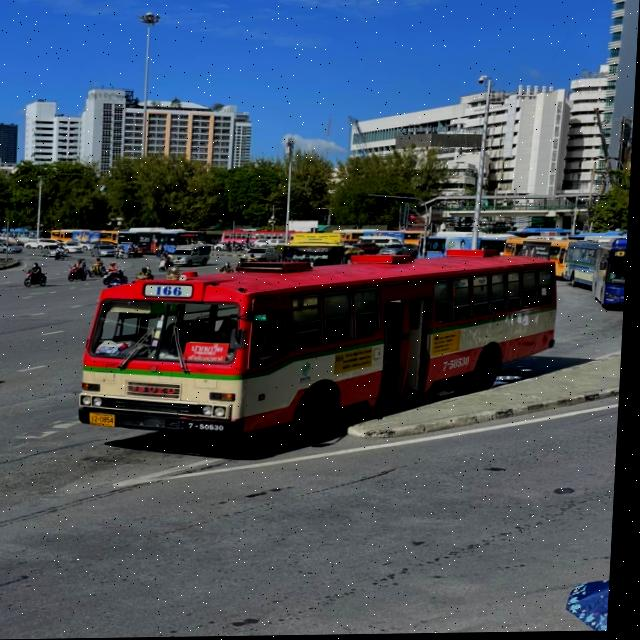BMTA-bus: (76, 249, 566, 446)
Bus-Line-Number: (150, 285, 196, 298)
Destination-Sign-Extra-Bus: (188, 342, 233, 364)
